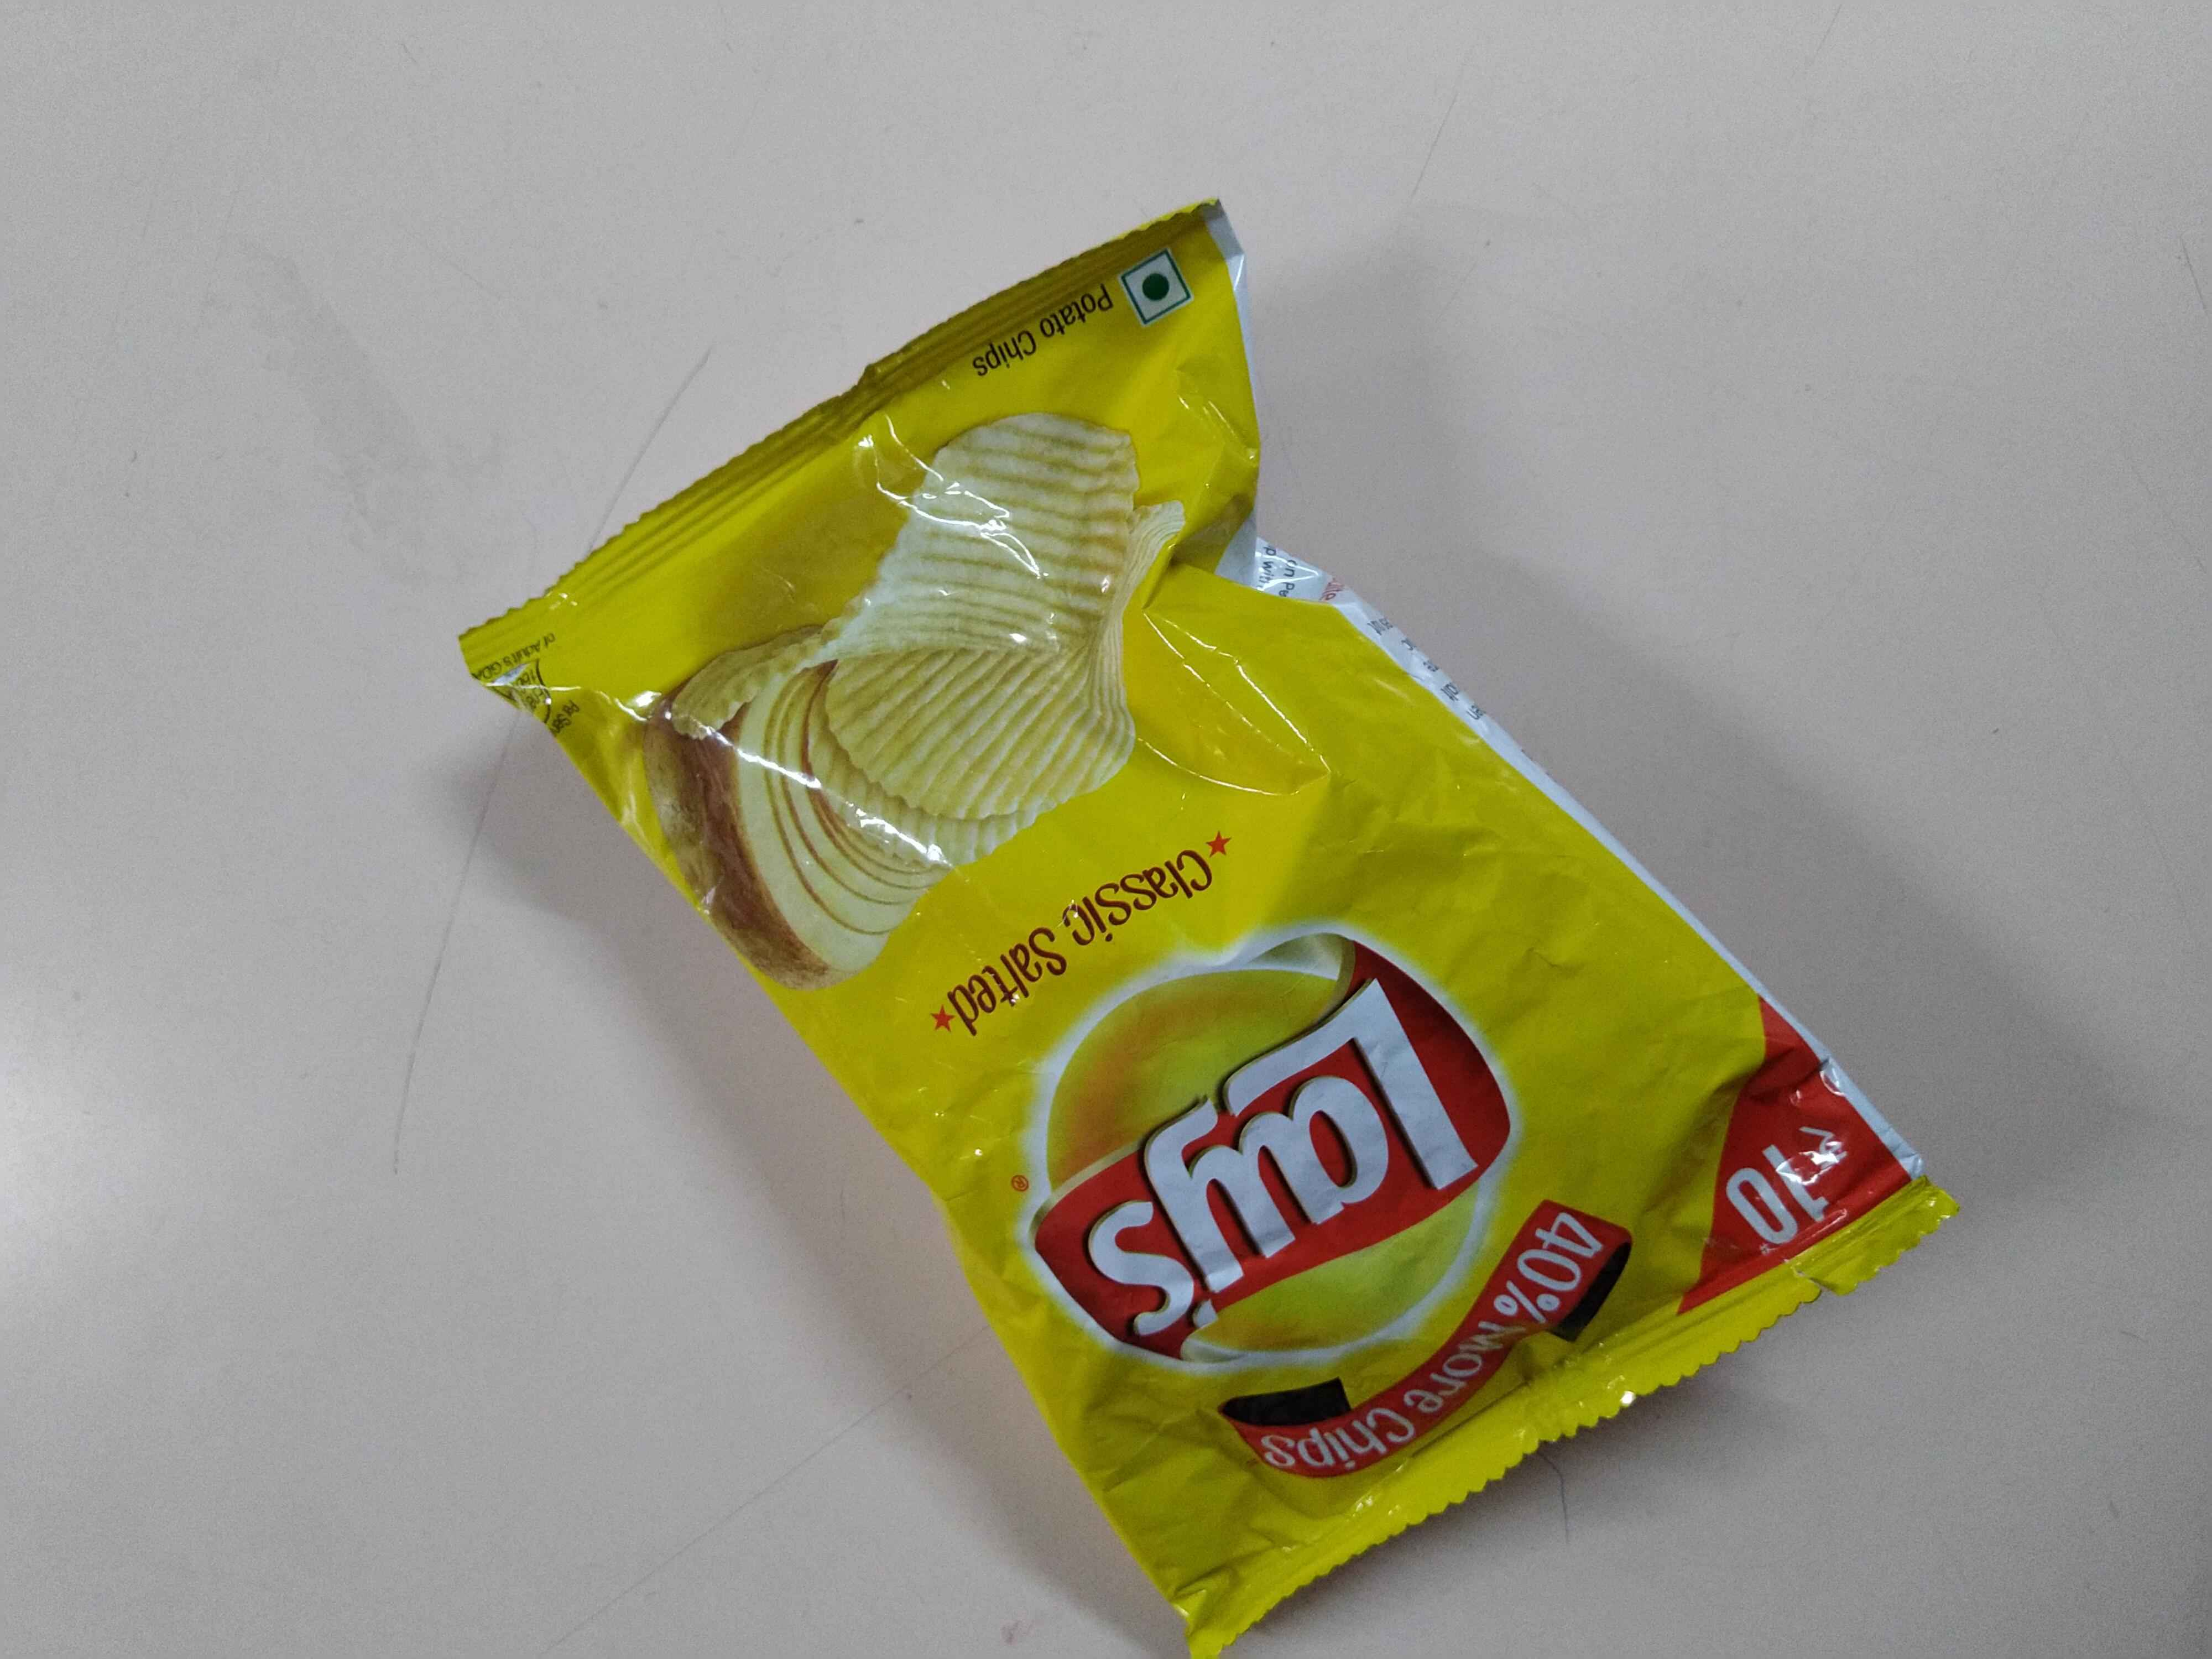Lays: (1028, 929, 1522, 1391)
